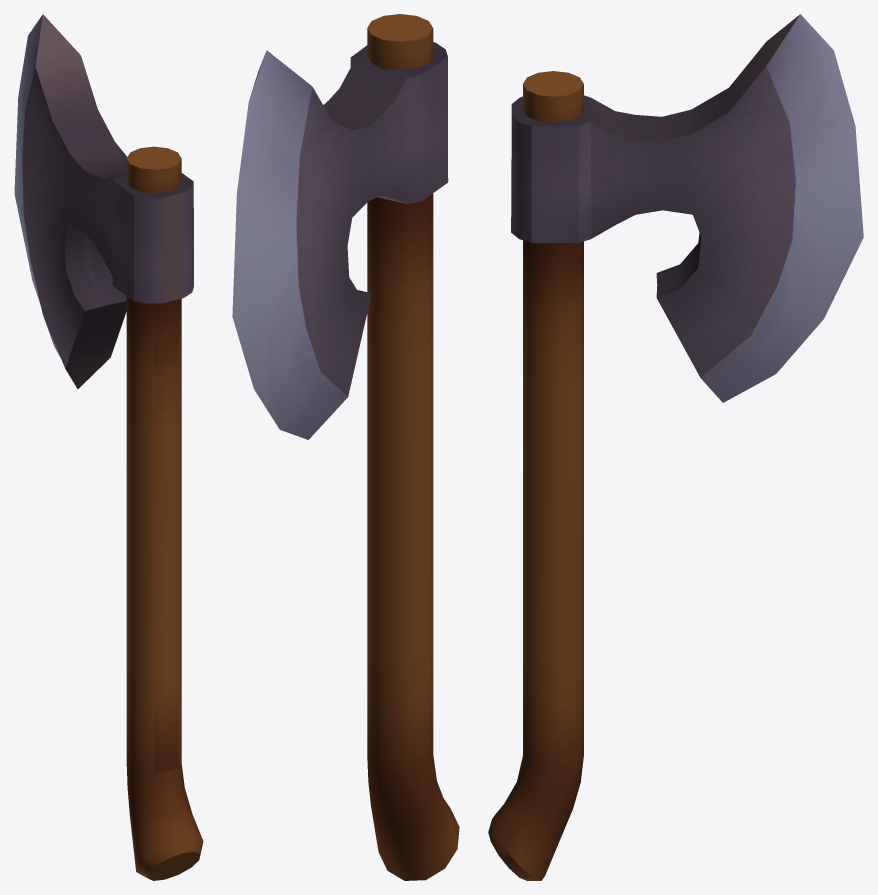
File: Gatherer_Axe.fbx
3 views of the same model, side by side, from view 1: azimuth 30°, elevation 25°; view 2: azimuth 150°, elevation 25°; view 3: azimuth 270°, elevation 25° (orthographic). The views are drawn at different scales.
Parts seen in each view (by area): view 1: Axe; view 2: Axe; view 3: Axe.
Part boxes in pixels (x1,y1,x2,y2): Axe: (14, 14, 203, 880); Axe: (232, 14, 459, 880); Axe: (488, 14, 863, 880).
Bounding box in the file's own units: 5.39 × 62.46 × 24.63.
